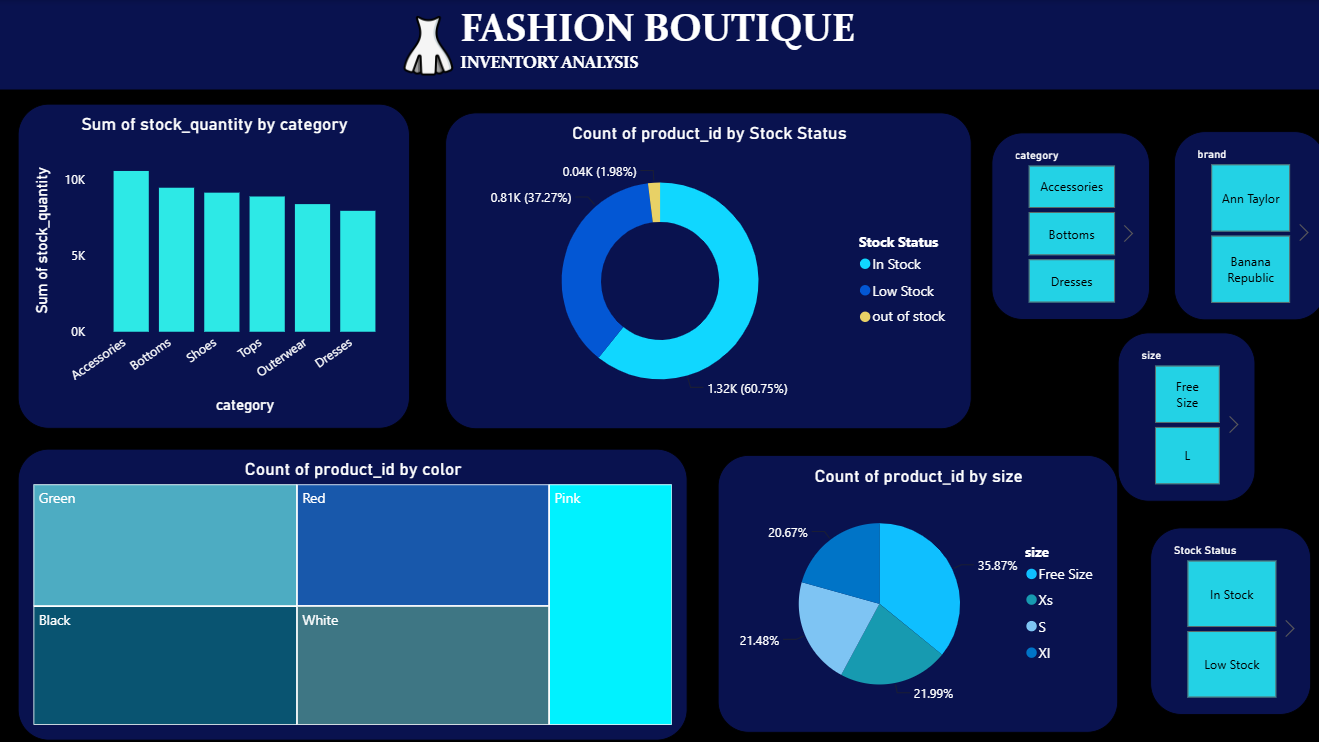

Layout of this report page (visuals, bound fields, positions):
{"tool":"powerbi","page":{"name":"INVENTORY ANALYSIS","canvas":[1280,720],"ordinal":3},"visuals":[{"type":"textbox","box":[0,0,1280.3,86.5],"z":0},{"type":"image","box":[378.5,14.9,71.7,58.1],"z":1000},{"type":"columnChart","fields":{"Category":["Fashion_boutique.category"],"Y":["Sum(Fashion_boutique.stock_quantity)"]},"box":[17.6,100,378.5,313.6],"z":2000},{"type":"donutChart","fields":{"Category":["Fashion_boutique.Stock Status"],"Y":["CountNonNull(Fashion_boutique.product_id)"]},"box":[431.3,108.2,508.3,305.5],"z":3000},{"type":"pieChart","fields":{"Category":["Fashion_boutique.size"],"Y":["CountNonNull(Fashion_boutique.product_id)"]},"box":[693.5,439.4,386.7,267.7],"z":4000},{"type":"treemap","fields":{"Group":["Fashion_boutique.color"],"Values":["CountNonNull(Fashion_boutique.product_id)"]},"box":[17.6,432.6,646.2,281.2],"z":5000},{"type":"slicer","fields":{"Values":["Fashion_boutique.Stock Status"]},"box":[1111.3,509.7,155.5,181.2],"z":6000},{"type":"slicer","fields":{"Values":["Fashion_boutique.category"]},"box":[958.5,128.4,152.8,181.2],"z":7000},{"type":"slicer","fields":{"Values":["Fashion_boutique.brand"]},"box":[1134.3,127.1,146,182.5],"z":8000},{"type":"slicer","fields":{"Values":["Fashion_boutique.size"]},"box":[1080.2,320.4,132.5,163.6],"z":9000}]}

Visuals, with their boxes in screenshot pixels (x1, y1, x2, y2), scaled from the page's 1280x720 canvas onto the 1319x742 screenshot:
textbox: (x1=0, y1=0, x2=1318, y2=89)
image: (x1=390, y1=15, x2=464, y2=75)
columnChart - Fashion_boutique.category x Sum(Fashion_boutique.stock_quantity): (x1=18, y1=103, x2=408, y2=426)
donutChart - Fashion_boutique.Stock Status x CountNonNull(Fashion_boutique.product_id): (x1=444, y1=112, x2=968, y2=426)
pieChart - Fashion_boutique.size x CountNonNull(Fashion_boutique.product_id): (x1=715, y1=453, x2=1113, y2=729)
treemap - Fashion_boutique.color x CountNonNull(Fashion_boutique.product_id): (x1=18, y1=446, x2=684, y2=736)
slicer - Fashion_boutique.Stock Status: (x1=1145, y1=525, x2=1305, y2=712)
slicer - Fashion_boutique.category: (x1=988, y1=132, x2=1145, y2=319)
slicer - Fashion_boutique.brand: (x1=1169, y1=131, x2=1318, y2=319)
slicer - Fashion_boutique.size: (x1=1113, y1=330, x2=1250, y2=499)
